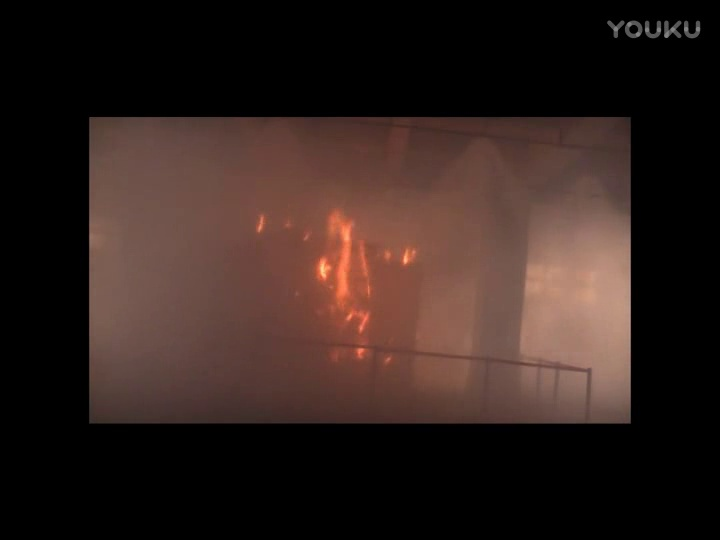fire: (317, 207, 370, 321)
